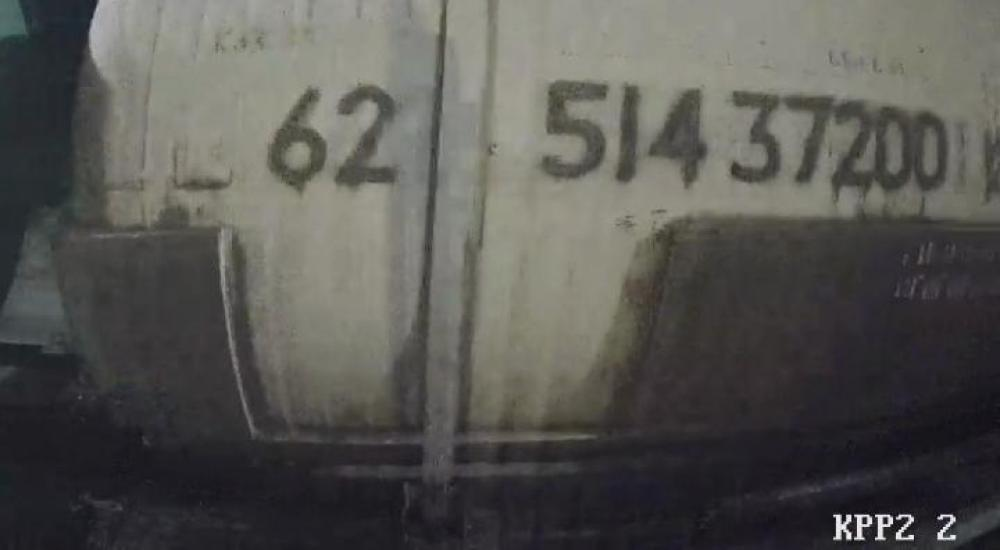Wagon-number: (534, 73, 952, 198)
